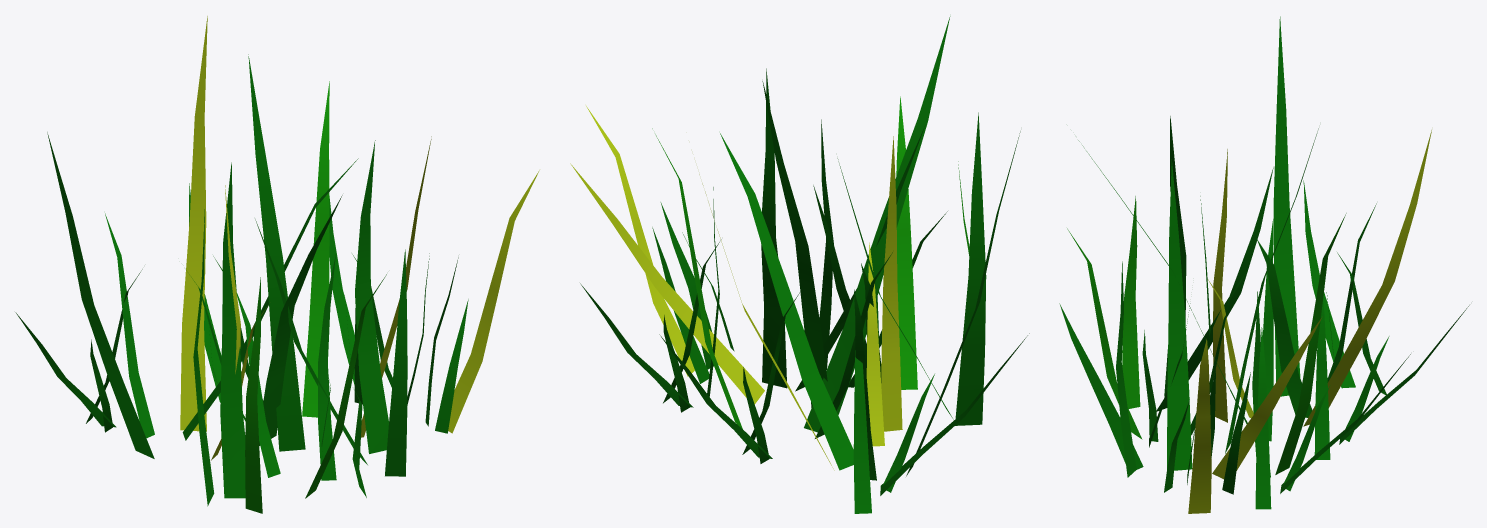
File: grass2.glb
3 views of the same model, side by side, from view 1: azimuth 30°, elevation 25°; view 2: azimuth 150°, elevation 25°; view 3: azimuth 270°, elevation 25° (orthographic). The views are drawn at different scales.
Parts seen in each view (by area): view 1: Object_3.311, Object_4.049, Object_4.053, Object_4.037, Object_2.102, Object_4.055, Object_4.046, Object_3.308, Object_4.050, Object_2.101, Object_4.070, Object_4.054 (+12 smaller); view 2: Object_4.065, Object_4.052, Object_4.050, Object_3.310, Object_4.037, Object_2.100, Object_3.309, Object_4.049, Object_4.068, Object_3.307, Object_3.308, Object_4.046 (+16 smaller); view 3: Object_4.045, Object_4.055, Object_3.311, Object_3.308, Object_2.101, Object_2.102, Object_3.310, Object_3.309, Object_4.065, Object_4.044, Object_4.047, Object_4.053 (+18 smaller).
Boxes of the visible parts, bbox=[...] form: Object_3.311: bbox=[180, 16, 207, 431]; Object_4.049: bbox=[248, 54, 305, 451]; Object_4.053: bbox=[220, 162, 245, 498]; Object_4.037: bbox=[355, 140, 388, 453]; Object_2.102: bbox=[302, 81, 329, 417]; Object_4.055: bbox=[47, 132, 154, 458]; Object_4.046: bbox=[385, 249, 407, 476]; Object_3.308: bbox=[448, 170, 539, 433]; Object_4.050: bbox=[259, 195, 342, 445]; Object_2.101: bbox=[245, 277, 262, 513]; Object_4.070: bbox=[318, 254, 336, 480]; Object_4.054: bbox=[105, 213, 154, 438]; Object_4.065: bbox=[720, 133, 853, 470]; Object_4.052: bbox=[955, 112, 986, 425]; Object_4.050: bbox=[804, 16, 950, 432]; Object_3.310: bbox=[881, 136, 902, 431]; Object_4.037: bbox=[761, 68, 787, 388]; Object_2.100: bbox=[896, 96, 917, 389]; Object_3.309: bbox=[570, 163, 764, 404]; Object_4.049: bbox=[762, 81, 827, 407]; Object_4.068: bbox=[853, 350, 871, 513]; Object_3.307: bbox=[866, 242, 884, 446]; Object_3.308: bbox=[586, 106, 694, 376]; Object_4.046: bbox=[819, 119, 833, 369]; Object_4.045: bbox=[1167, 159, 1192, 470]; Object_4.055: bbox=[1273, 16, 1300, 396]; Object_3.311: bbox=[1303, 130, 1431, 426]; Object_3.308: bbox=[1188, 339, 1211, 513]; Object_2.101: bbox=[1122, 196, 1140, 408]; Object_2.102: bbox=[1275, 213, 1346, 474]; Object_3.310: bbox=[1213, 149, 1227, 422]; Object_3.309: bbox=[1212, 316, 1322, 479]; Object_4.065: bbox=[1257, 239, 1312, 417]; Object_4.044: bbox=[1255, 327, 1271, 509]; Object_4.047: bbox=[1314, 299, 1330, 459]; Object_4.053: bbox=[1156, 167, 1273, 411].
Bounding box in the file's own units: 22.37 × 16.79 × 17.86.
